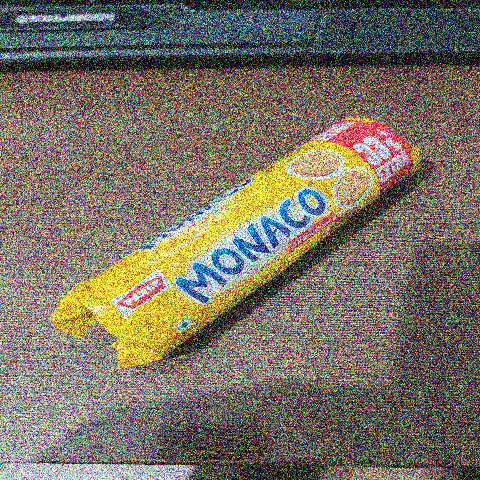monaco: (43, 118, 427, 390)
